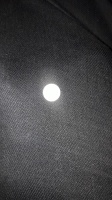Arveles: (42, 83, 61, 103)
